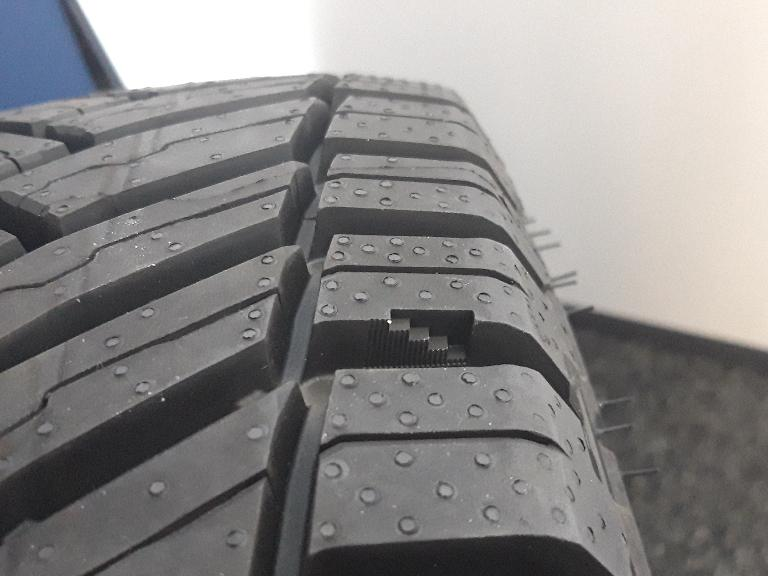temoin:100: (361, 306, 482, 372)
